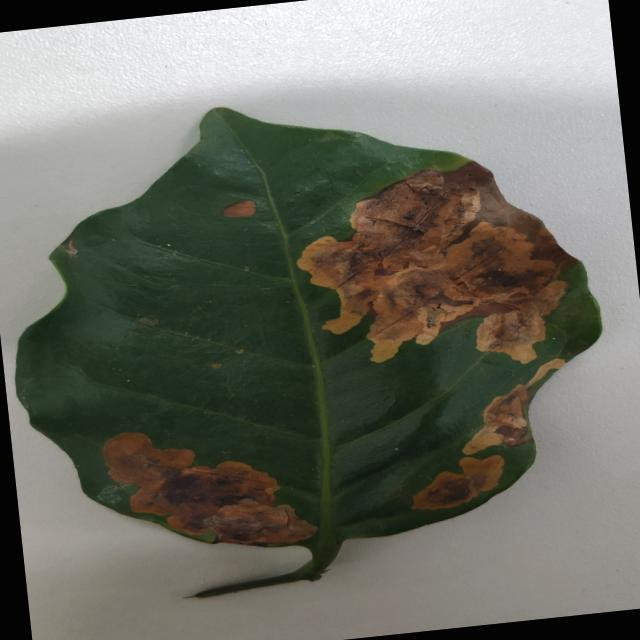KaratDaunKopi: (298, 162, 566, 363), (103, 432, 317, 544), (437, 0, 615, 85), (462, 359, 564, 454), (411, 455, 504, 509), (223, 199, 256, 217)
